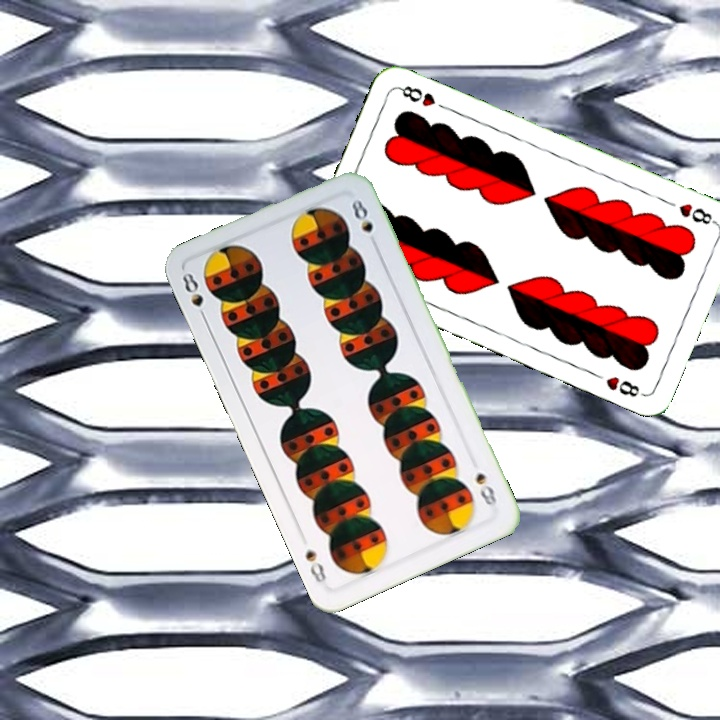H8: (674, 199, 719, 227)
S8: (178, 268, 210, 325), (471, 469, 499, 509)
